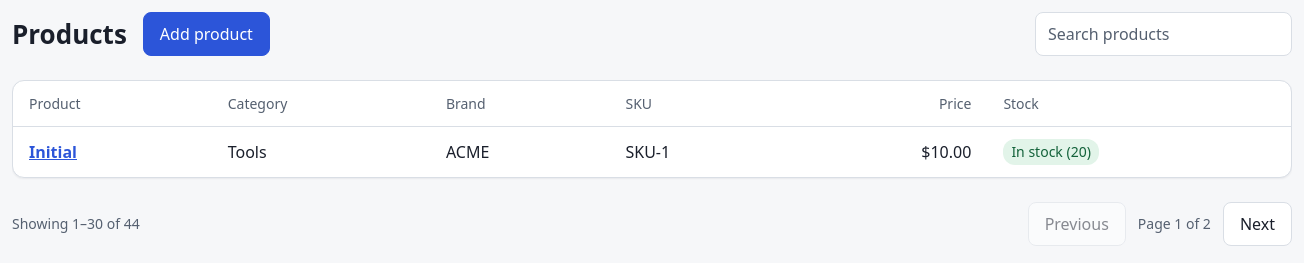
Scenario: DashboardPage › stale responses › shows only the latest search when the responses arrive out of order
Type "a" into the search field labelled "Search products" at (1164, 34), box 1035,12 -> 1292,56
Wait 300 ms
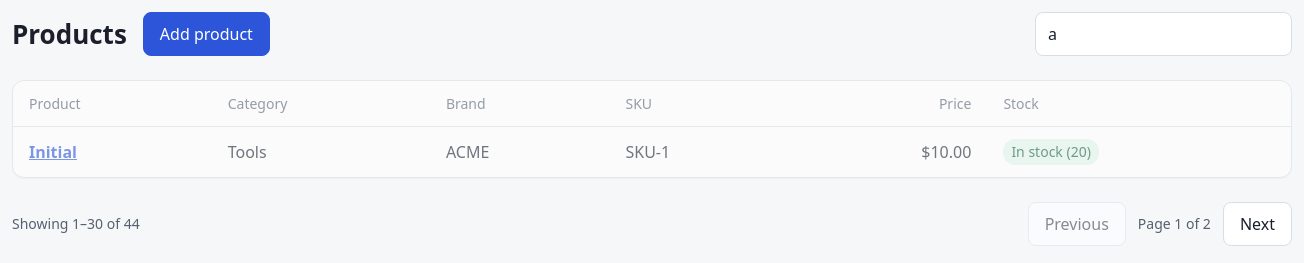
Replace the text in the search field named "Search products" with "ab" at (1164, 34), box 1035,12 -> 1292,56
Wait 300 ms
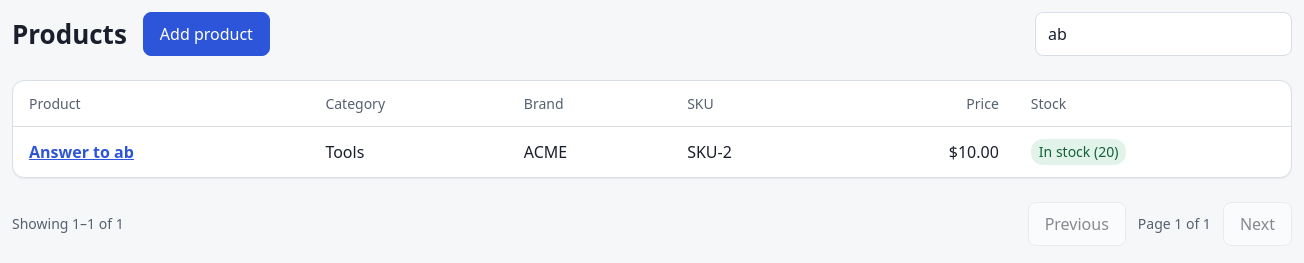
Expected: the link "Answer to ab" is shown, 29,140 -> 134,164
